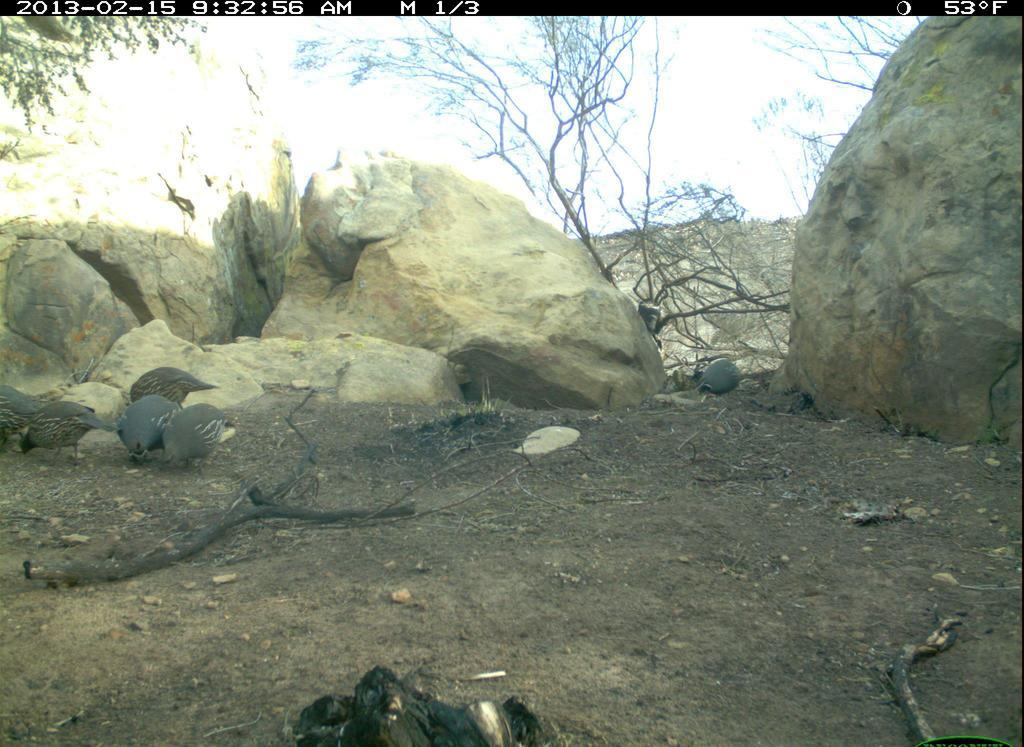bird: (13, 393, 113, 468), (162, 404, 243, 479), (116, 395, 193, 466), (125, 365, 225, 417), (696, 351, 747, 410)
